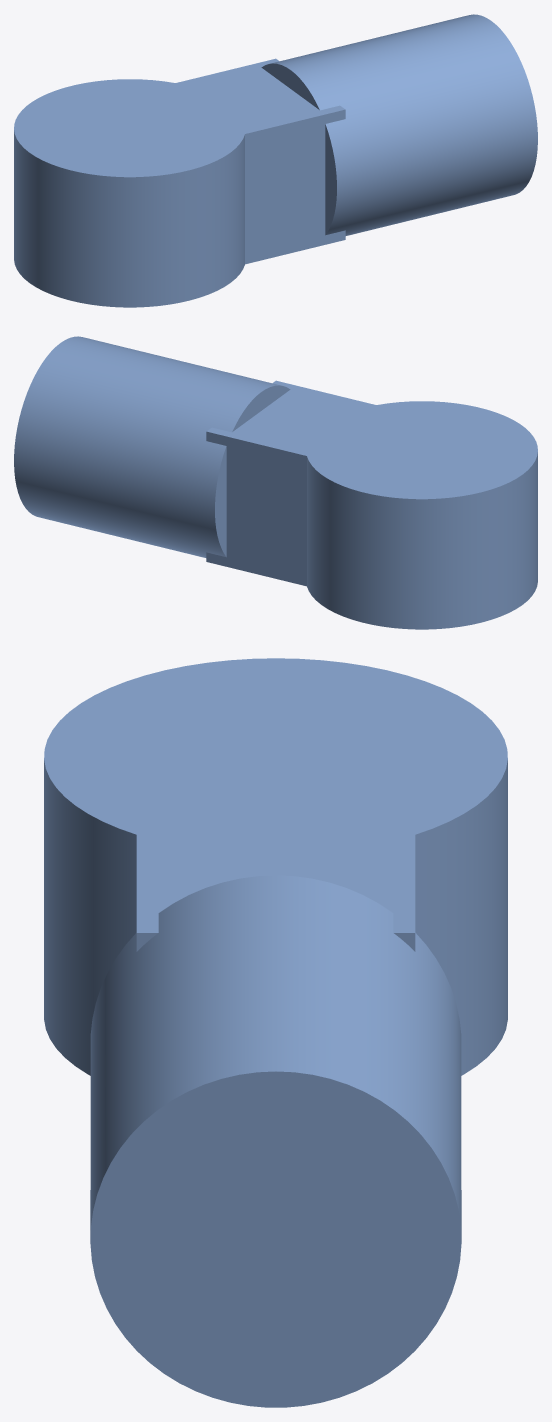
File: step_01.glb
The picture shows the model from 3 angles, top to bottom: view 1: azimuth 30°, elevation 25°; view 2: azimuth 150°, elevation 25°; view 3: azimuth 270°, elevation 25°; orthographic projection. The views are drawn at different scales.
Visible parts, largest first — view 1: part__eye end; view 2: part__eye end; view 3: part__eye end.
Boxes of the visible parts, box(x1,y1,x2,y2) form: part__eye end: box(14, 14, 537, 307); part__eye end: box(14, 336, 537, 629); part__eye end: box(44, 658, 507, 1407).
Bounding box in the file's own units: 115 × 40 × 49.98.
